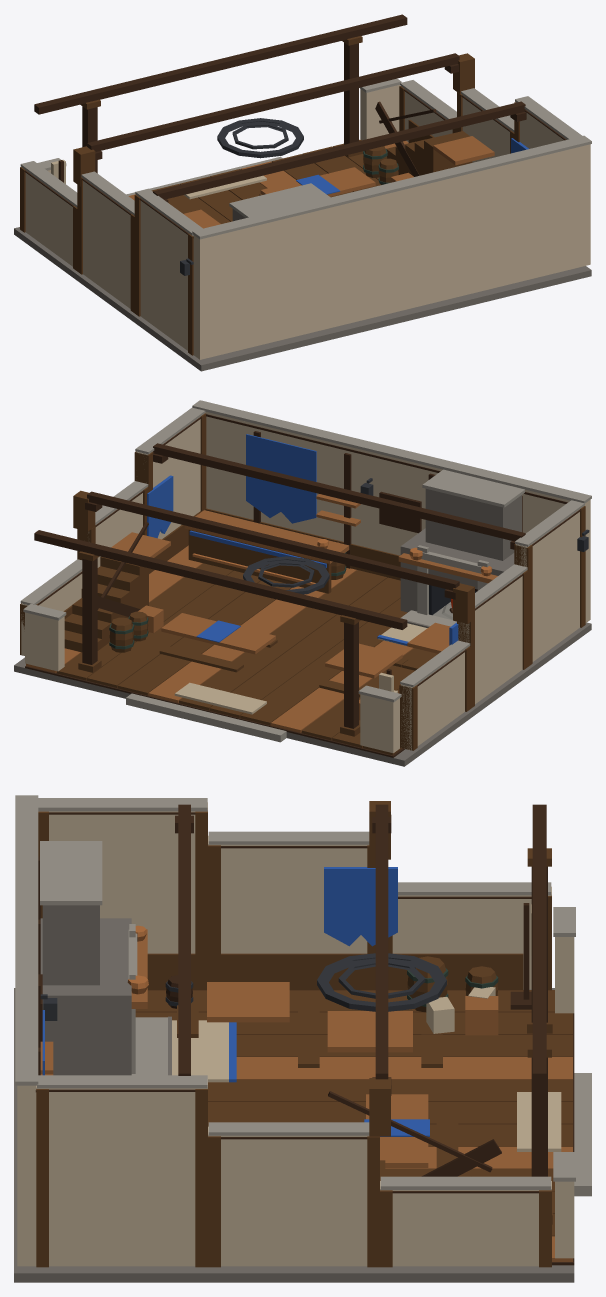
The model's file is 酒馆内部_手游_中.glb.
The picture shows the model from 3 angles, top to bottom: view 1: azimuth 30°, elevation 25°; view 2: azimuth 150°, elevation 25°; view 3: azimuth 270°, elevation 25°; orthographic projection. The views are drawn at different scales.
Visible parts, largest first — view 1: TV-主体, TV-team; view 2: TV-主体, TV-team; view 3: TV-主体, TV-team.
Part boxes in pixels (box(x1,y1,x2,y2)): TV-主体: box(14, 14, 591, 371); TV-team: box(296, 138, 528, 194); TV-主体: box(14, 400, 591, 766); TV-team: box(147, 434, 458, 645); TV-主体: box(14, 795, 591, 1282); TV-team: box(42, 867, 429, 1136).
Size of the model in its own units: 10.83 by 3.49 by 9.08.
Materials: 3 (2 with a texture image).
